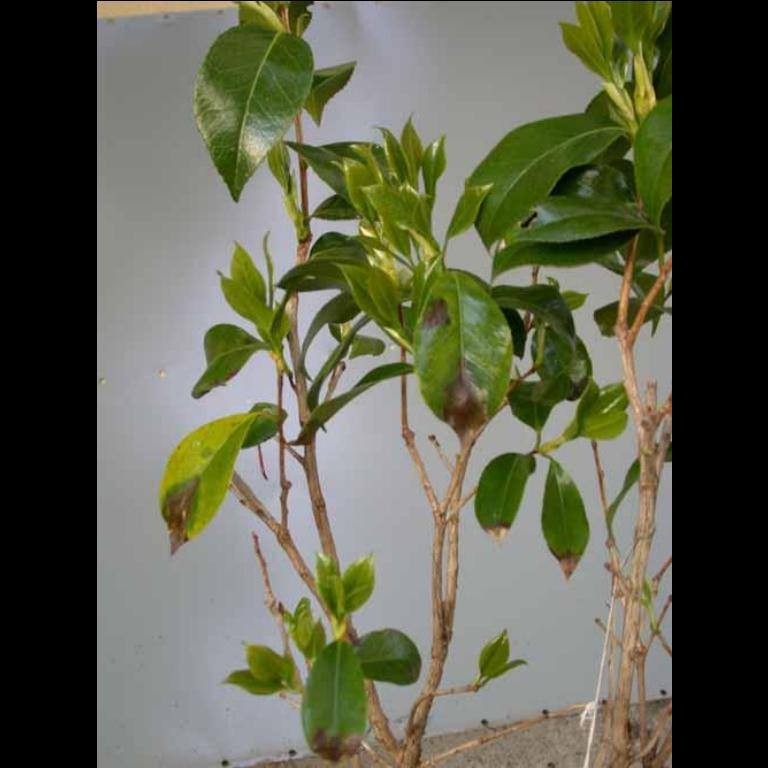blight: (432, 336, 504, 432), (152, 459, 210, 551)
